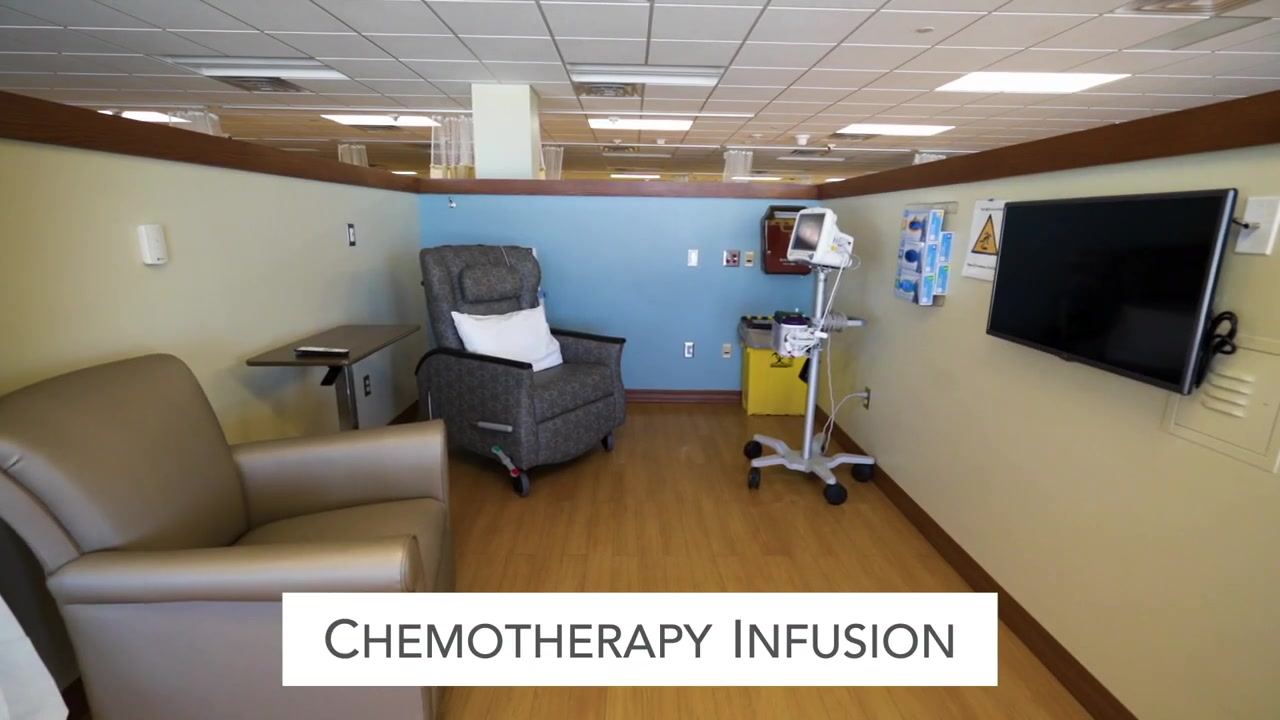TV: (984, 187, 1246, 394)
bedside_monitor: (787, 208, 855, 270)
curtain: (432, 116, 479, 185)
dispenser: (895, 209, 950, 302)
sofa: (1, 352, 452, 720), (415, 243, 629, 499)
table: (246, 324, 424, 431)
waste_bin: (737, 315, 811, 416)
